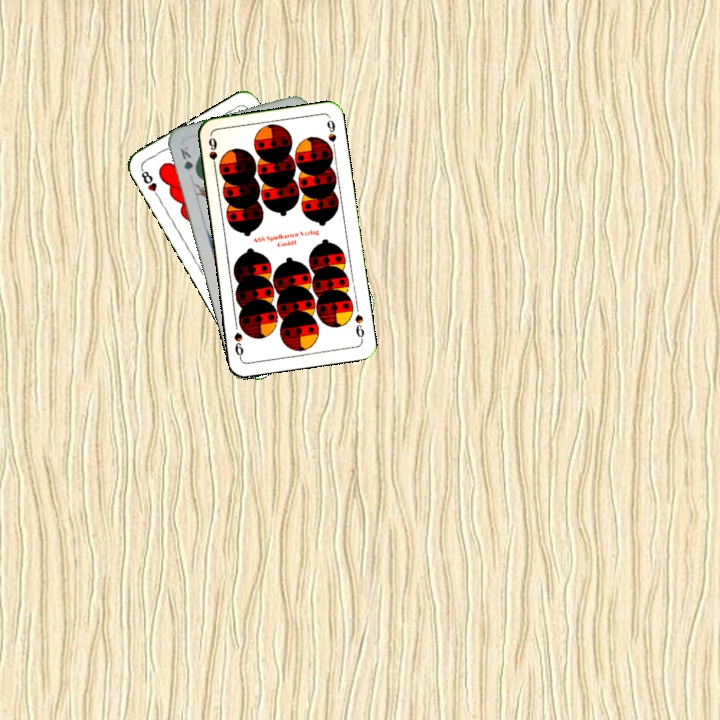GK: (176, 142, 200, 180)
H8: (137, 165, 163, 202)
S9: (204, 133, 220, 174), (351, 310, 367, 343)
